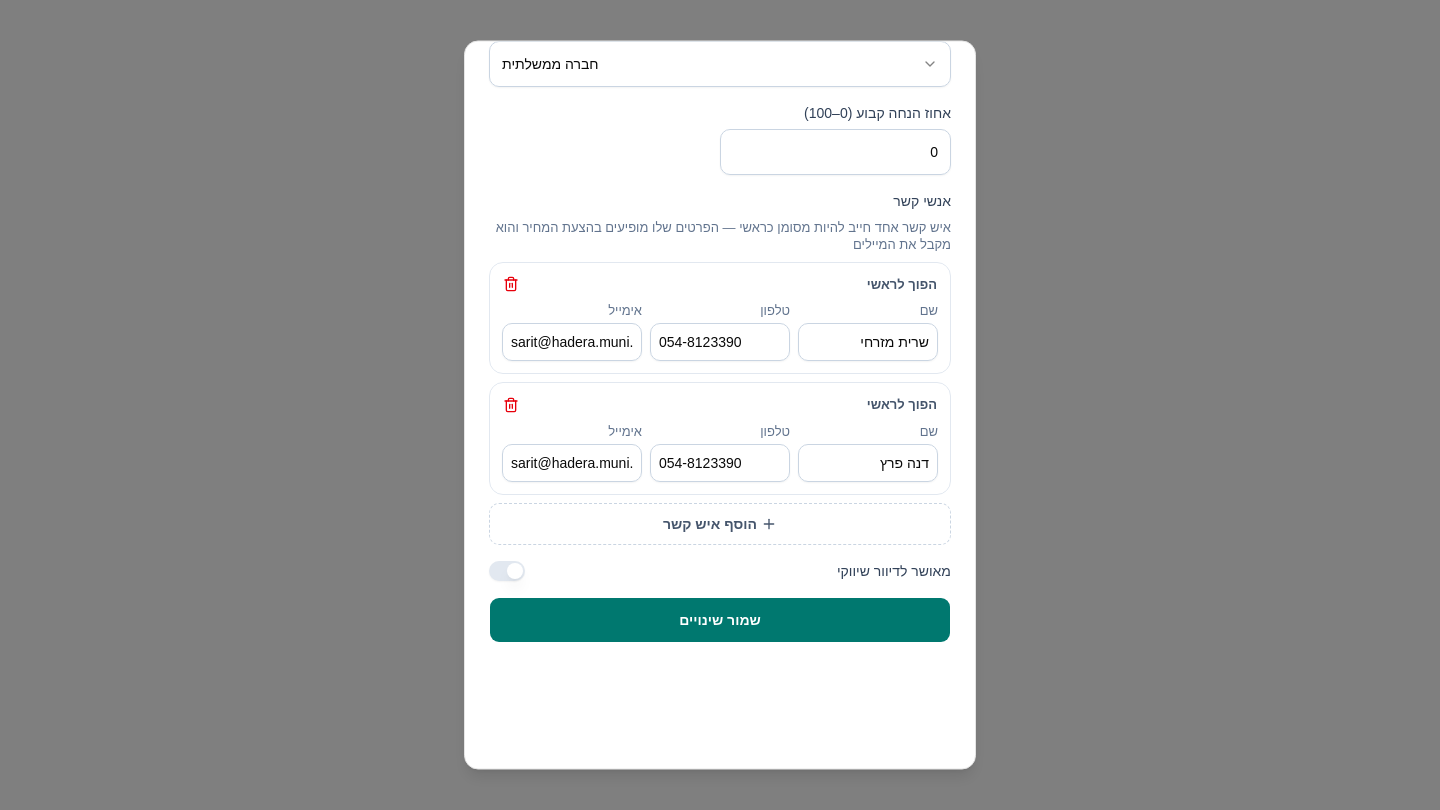
CustomerFormDialog — N2, שמירה בלי איש-קשר ראשי מסומן › חוסמת את השמירה ומציגה את נוסח-ה-RPC, בלי לקרוא לאף פונקציית-כתיבה
The width and height of the screenshot is (1440, 810).
(page scrolled)
Click the button with test id "customer-form-submit" at (720, 620), box [489,598,951,644]
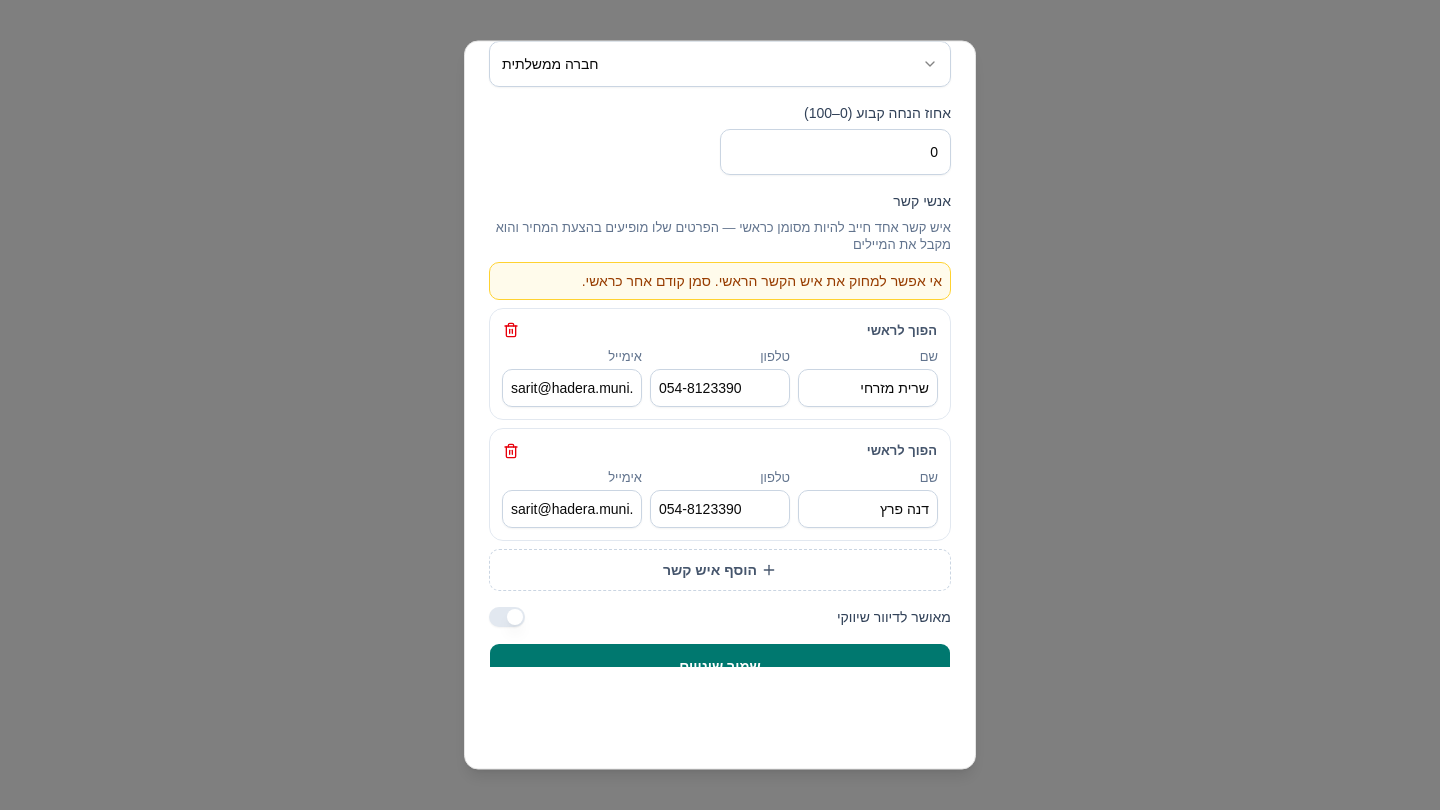
Now the message with test id "customer-contacts-primary-error" reads "אי אפשר למחוק את איש הקשר הראשי. סמן קודם אחר כראשי.", box [582,273,942,289]
